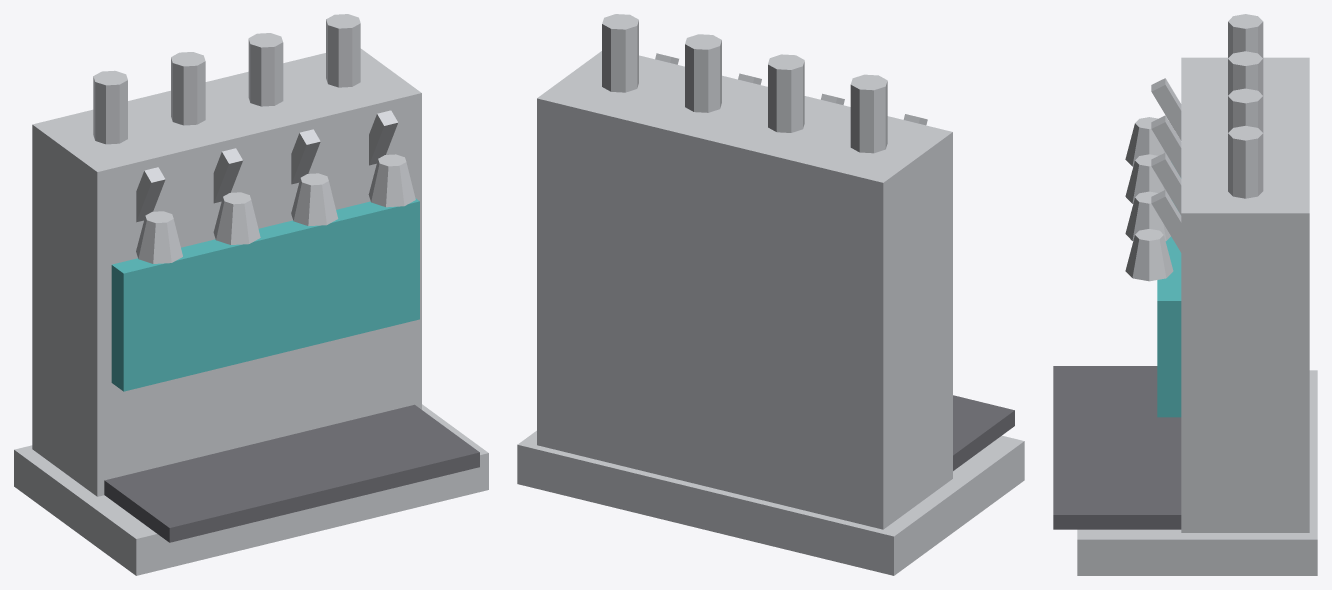
Rendered from retro-diner-and-roadside-motel-soda-fountain-head-1619533a__37337.glb.
3 renders of one model, left to right at view 1: azimuth 30°, elevation 25°; view 2: azimuth 150°, elevation 25°; view 3: azimuth 270°, elevation 25°, orthographic. The views are drawn at different scales.
Visible parts, largest first — view 1: soda-fountain-head-chrome, soda-fountain-head-turquoise, soda-fountain-head-asphalt; view 2: soda-fountain-head-chrome, soda-fountain-head-asphalt; view 3: soda-fountain-head-chrome, soda-fountain-head-asphalt, soda-fountain-head-turquoise.
Boxes of the visible parts, x1,y1,x2,y2 form: soda-fountain-head-chrome: (14, 14, 488, 575); soda-fountain-head-turquoise: (111, 198, 419, 391); soda-fountain-head-asphalt: (104, 404, 479, 542); soda-fountain-head-chrome: (517, 14, 1024, 575); soda-fountain-head-asphalt: (953, 395, 1014, 470); soda-fountain-head-chrome: (1077, 14, 1317, 575); soda-fountain-head-asphalt: (1053, 366, 1181, 529); soda-fountain-head-turquoise: (1157, 236, 1181, 417).
Bounding box in the file's own units: 0.5 × 0.57 × 0.33.
